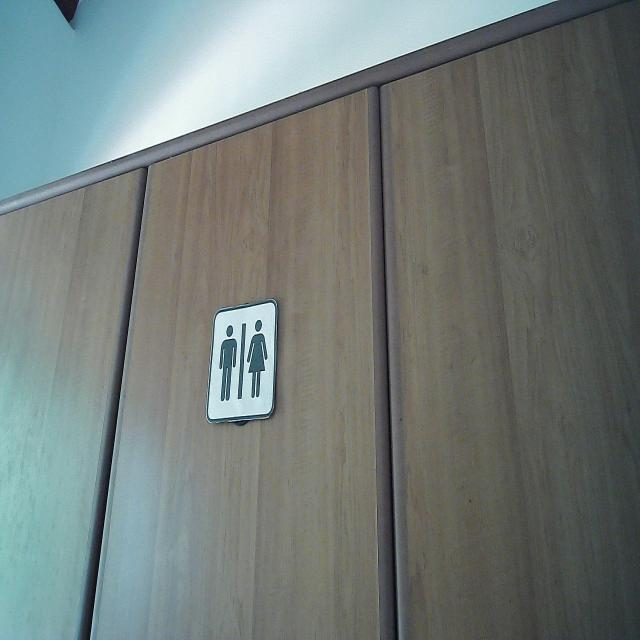restroom: (204, 296, 278, 426)
